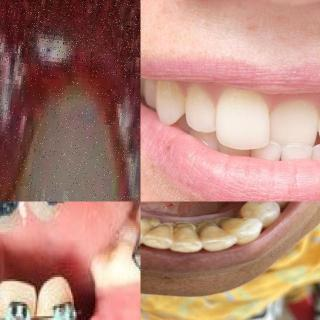Gum Swelling: (0, 0, 140, 201)
calculus: (195, 218, 221, 238), (176, 218, 199, 240), (140, 213, 162, 236), (156, 217, 176, 241), (214, 212, 234, 233)
maligned: (270, 91, 320, 147), (275, 139, 317, 161), (252, 137, 285, 161)
